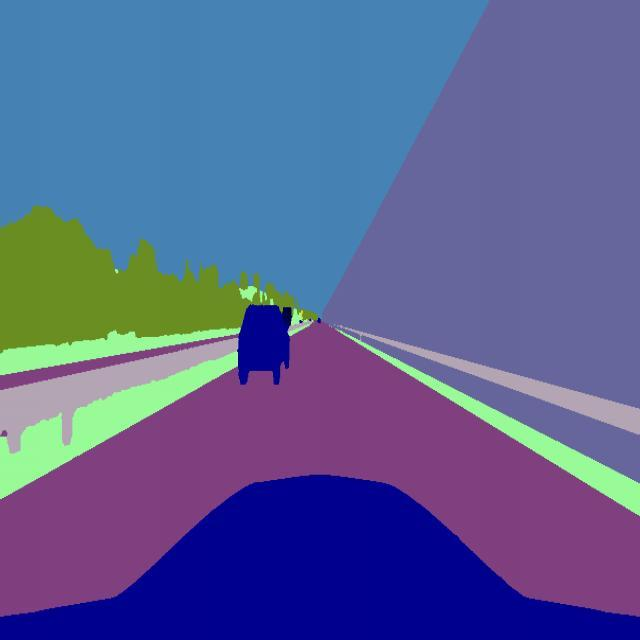safe: (234, 302, 294, 387)
